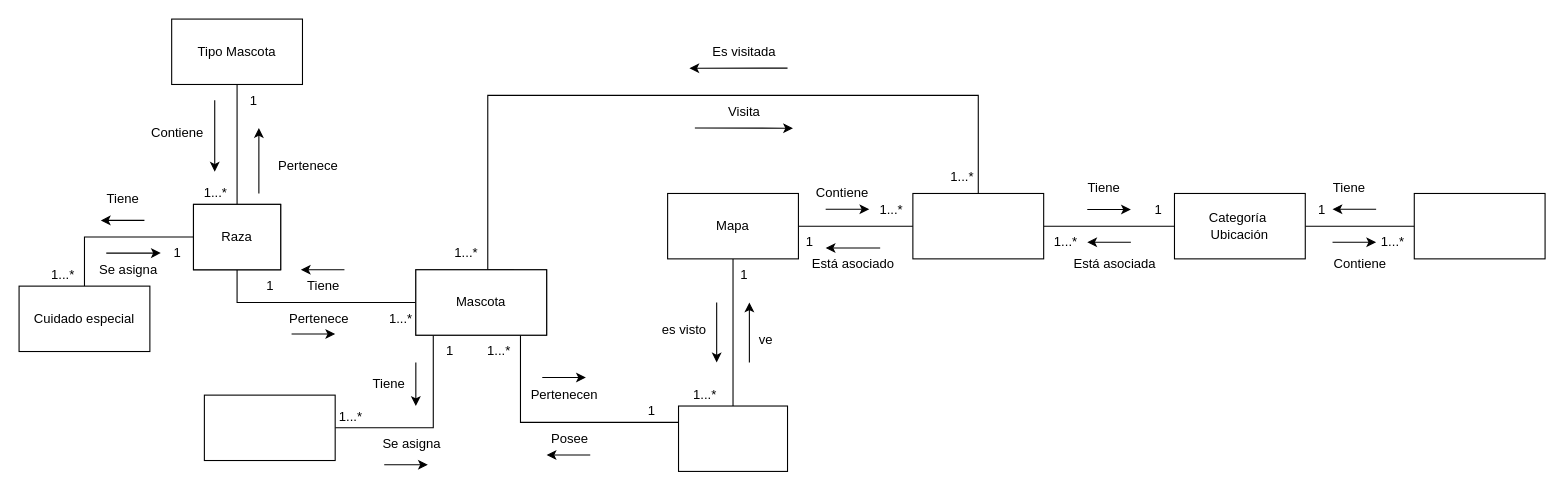
Image size: 1564x493. Some labels were removed from this diagram. The shapes that lost their labels are listed below. From the top down, each one's centre as x and y in pixels, then its label:
At (978,225): "Ubicación".
At (1479,225): "información categoria ubicación".
At (269,427): "Cuidado basico".
At (732,438): "Dueño".
